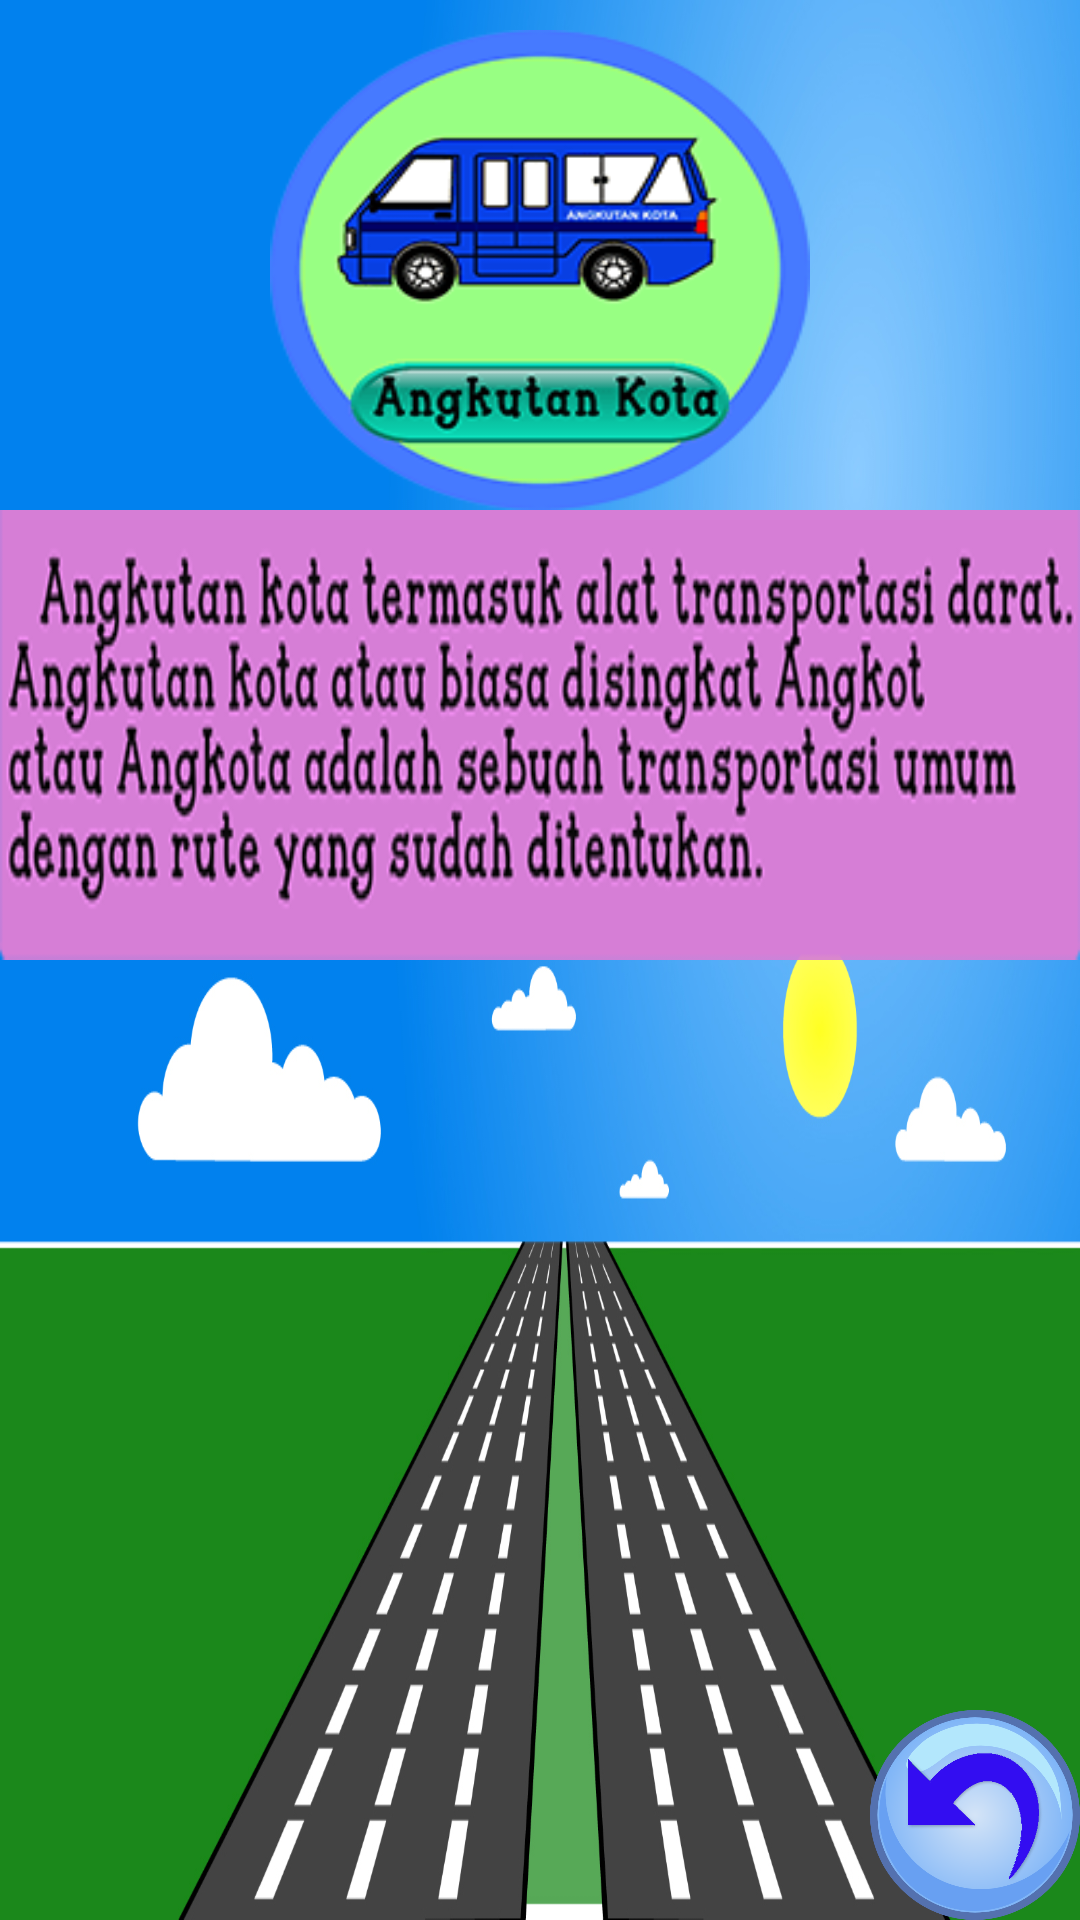

Point at icon controls on the screen. Image size 1080*1920, points as point (x, y).
back: point (975, 1815)
